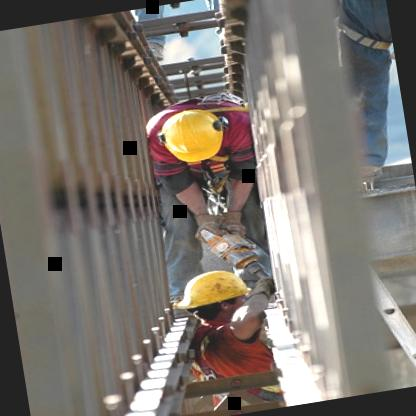helmet: (139, 92, 247, 196), (161, 255, 263, 336)
